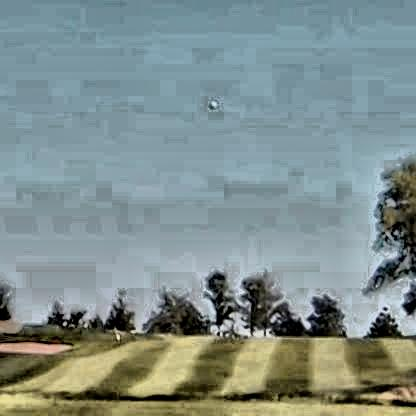golfball: (206, 98, 215, 106)
